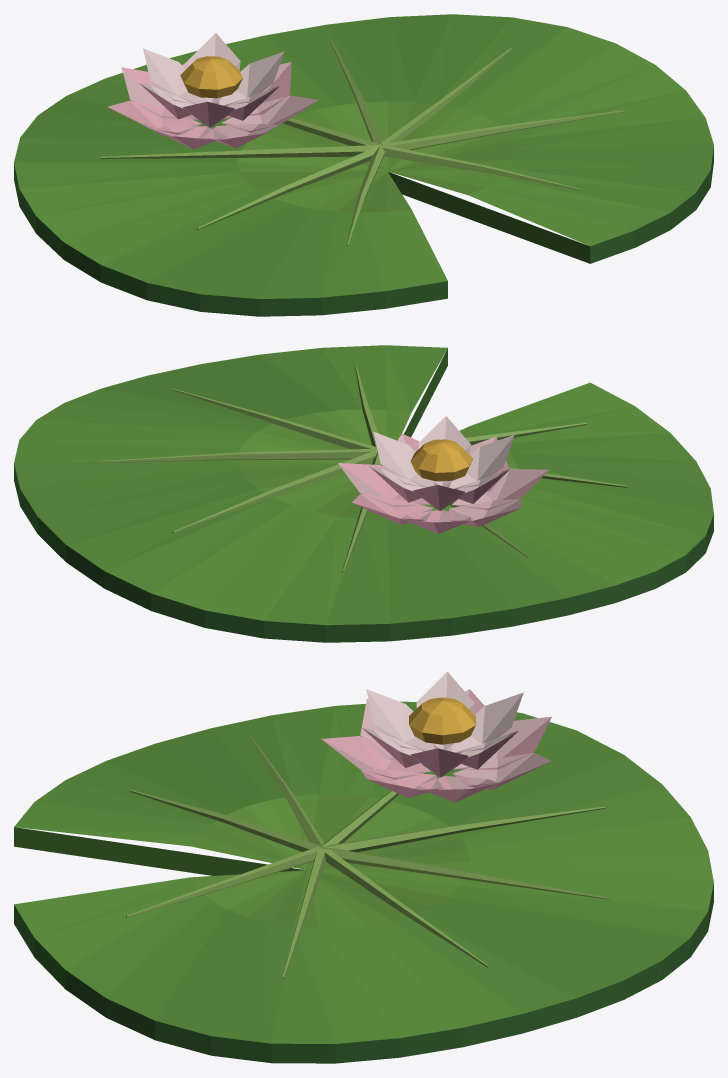
Rendered from Lily_Pad.glb.
3 renders of one model, top to bottom at view 1: azimuth 30°, elevation 25°; view 2: azimuth 150°, elevation 25°; view 3: azimuth 270°, elevation 25°, orthographic. The views are drawn at different scales.
Parts seen in each view (by area): view 1: Lily_Pad; view 2: Lily_Pad; view 3: Lily_Pad.
Boxes of the visible parts, x1,y1,x2,y2 form: Lily_Pad: (14,14,713,316); Lily_Pad: (14,345,713,642); Lily_Pad: (14,671,713,1063).
Size of the model in its own units: 1.3 by 0.248 by 1.13.
